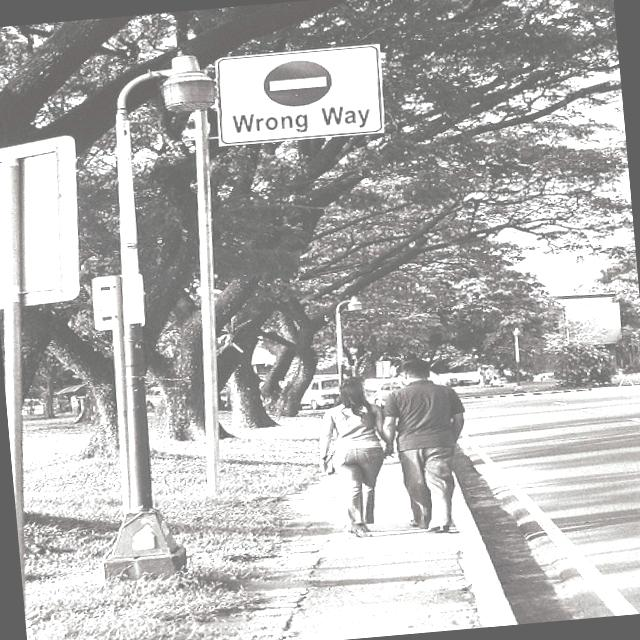Vehicle: (298, 376, 341, 411), (366, 378, 406, 410), (144, 385, 166, 409), (362, 378, 383, 390), (458, 373, 478, 385)
